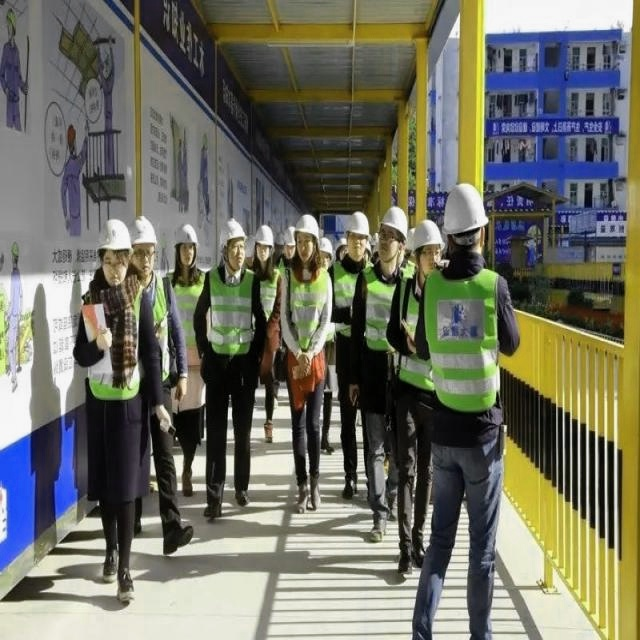Con_Casco: (441, 183, 487, 251), (97, 216, 131, 284), (172, 223, 199, 275), (218, 216, 246, 265)
Con_Chaleco: (425, 269, 499, 411), (201, 266, 260, 362), (284, 263, 328, 360)
